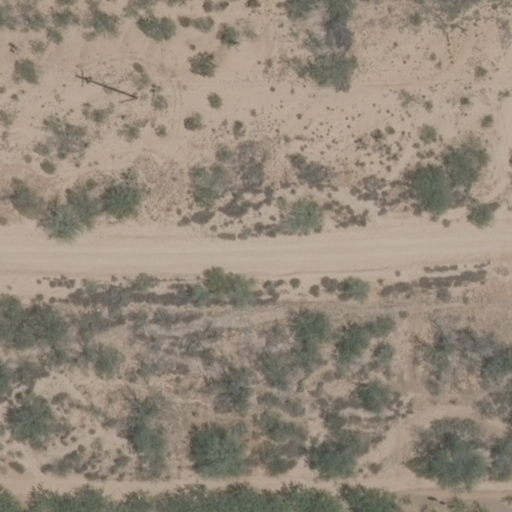DT: (78, 72, 139, 100)
